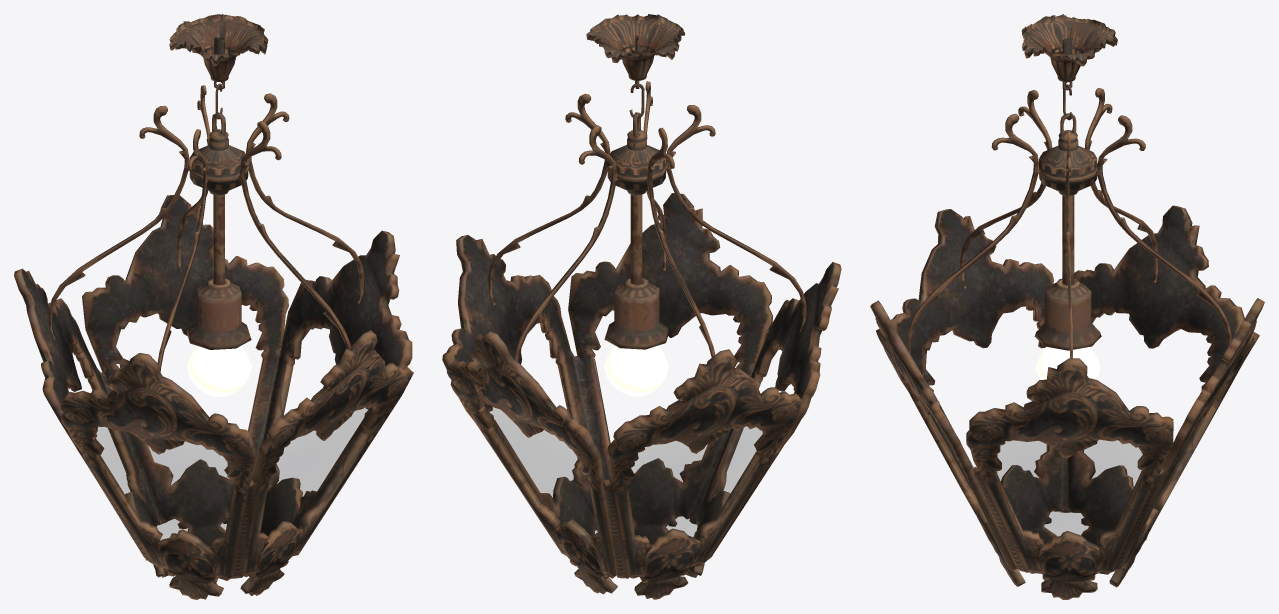
The model's file is lantern_chandelier_01.glb.
3 renders of one model, left to right at view 1: azimuth 30°, elevation 25°; view 2: azimuth 150°, elevation 25°; view 3: azimuth 270°, elevation 25°, orthographic.
Parts seen in each view (by area): view 1: lantern_chandelier_01; view 2: lantern_chandelier_01; view 3: lantern_chandelier_01.
Boxes of the visible parts, <box> form: lantern_chandelier_01: <box>14,14,413,599</box>; lantern_chandelier_01: <box>442,14,841,599</box>; lantern_chandelier_01: <box>870,14,1264,599</box>.
Bounding box in the file's own units: 0.5792 × 0.8776 × 0.5746.
3 materials, 2 textured.
